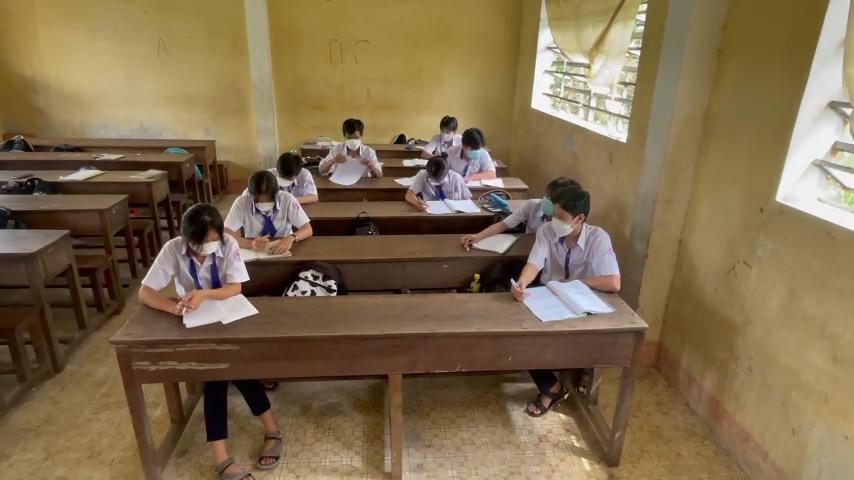Bend Over The Desk: (417, 150, 453, 189)
Hand Under Table: (448, 170, 471, 203)
Look Around: (548, 190, 592, 241)
Normal: (146, 204, 251, 307), (223, 172, 313, 252), (315, 116, 385, 189), (267, 150, 308, 190), (430, 115, 461, 146)
